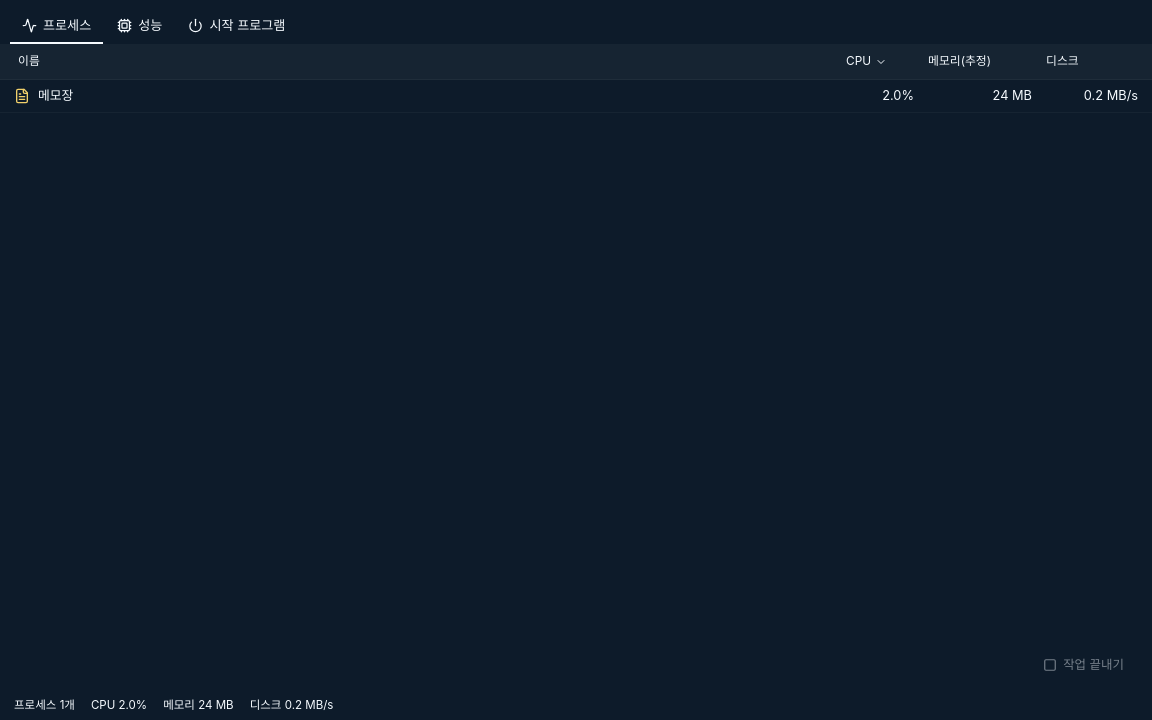
Test: TaskManagerApp 프로세스 탭 › 행을 고르기 전에는 작업 끝내기를 누를 수 없다
Expected: the button "작업 끝내기" is disabled, x1=1029 y1=650 x2=1138 y2=680
Click the row "메모장 2.0% 24 MB 0.2 MB/s". click: (576,96)
box: x1=0 y1=80 x2=1151 y2=113
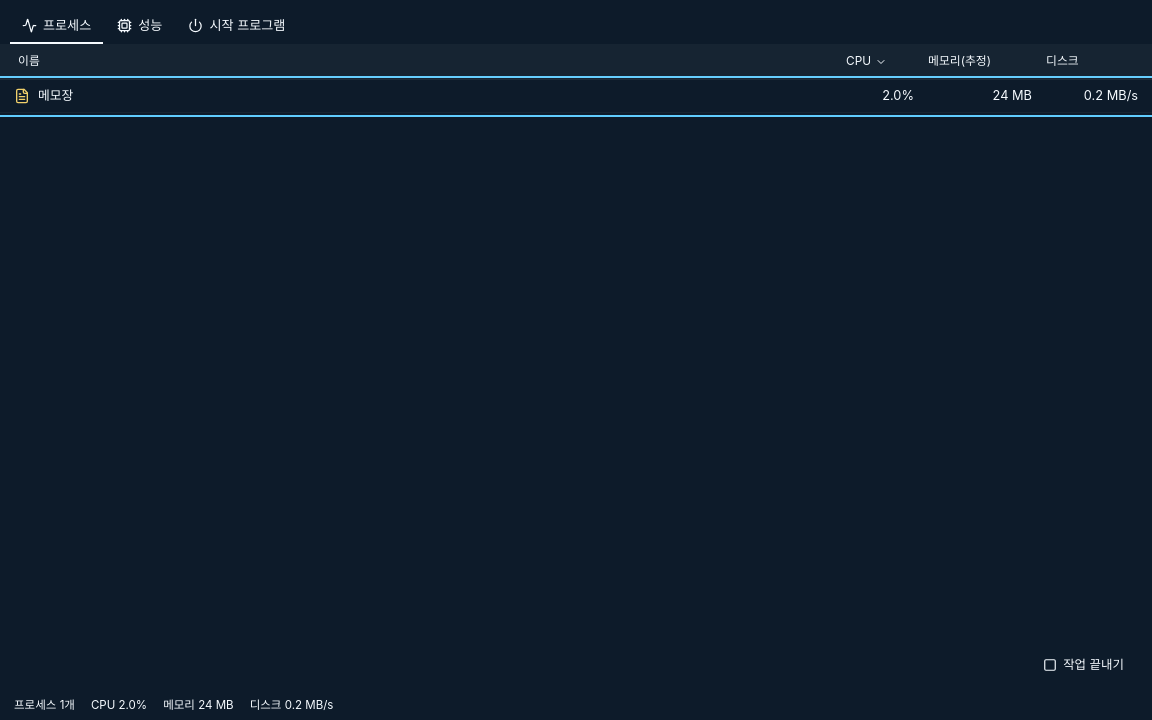
Expected: the button "작업 끝내기" is enabled, x1=1029 y1=650 x2=1138 y2=680
